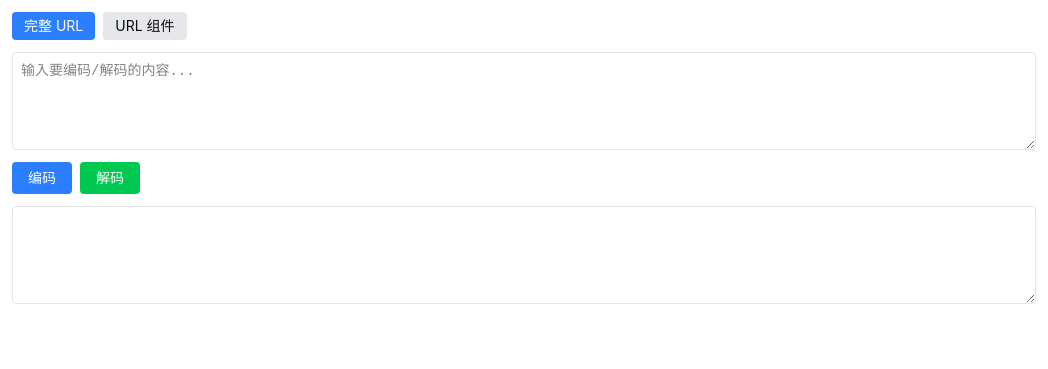
Test: UrlCodecTab › shows error on invalid decode
This screenshot has width=1048, height=369.
Type "%ZZ" into the text box with test id "codec-input" at (524, 101), box [12,52,1036,150]
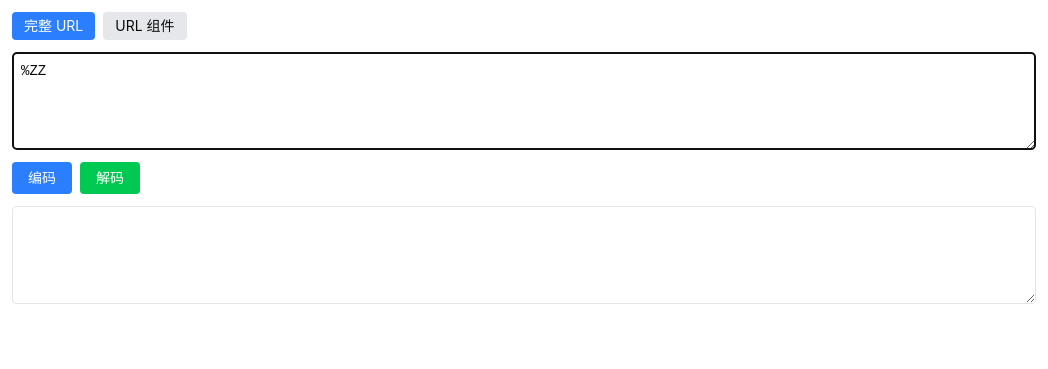
Click the button with test id "btn-decode" at (110, 178), box [80,162,140,194]
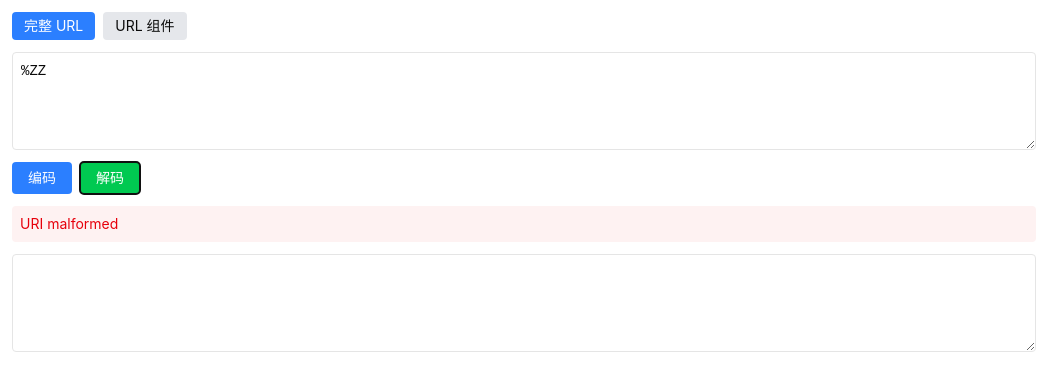
Result: the text with test id "codec-error" is shown at [12,206,1036,242]
